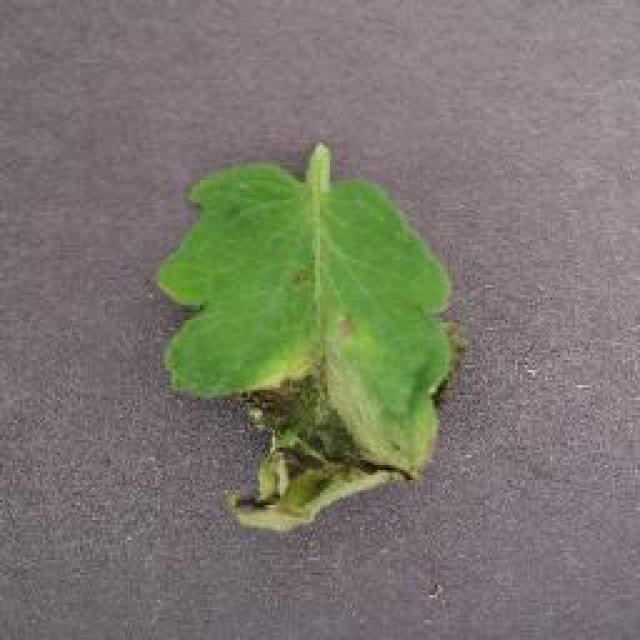Tomato Late Blight: (247, 318, 413, 552)
